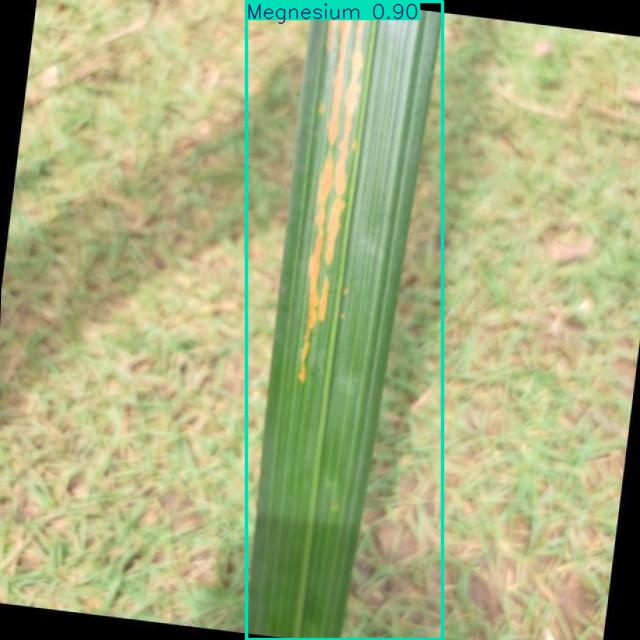Megnesium: (247, 1, 443, 640)
